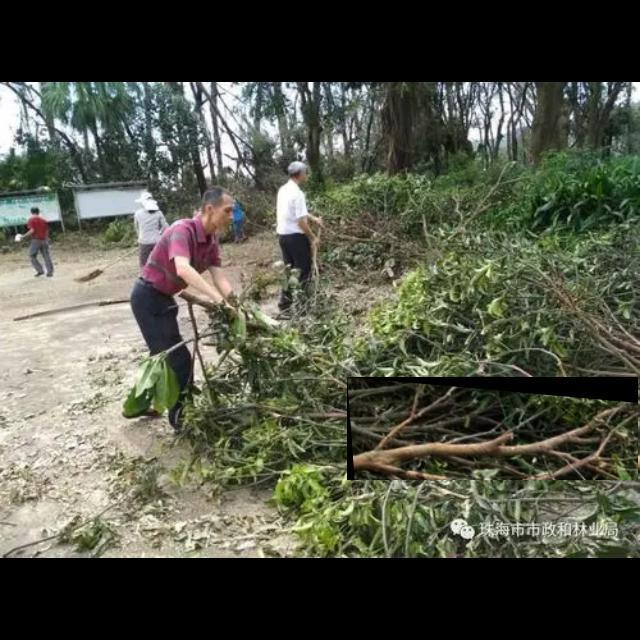fallen_tree: (347, 377, 639, 481)
